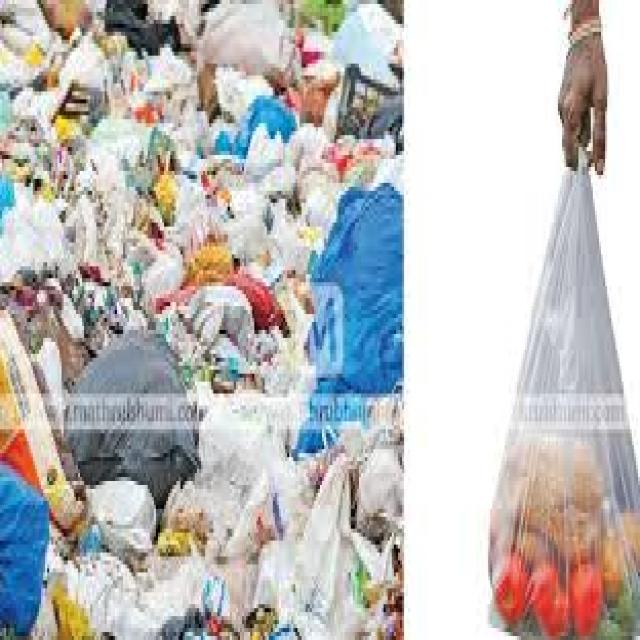plastic: (300, 152, 411, 415)
plastic_bag: (469, 85, 640, 640)
